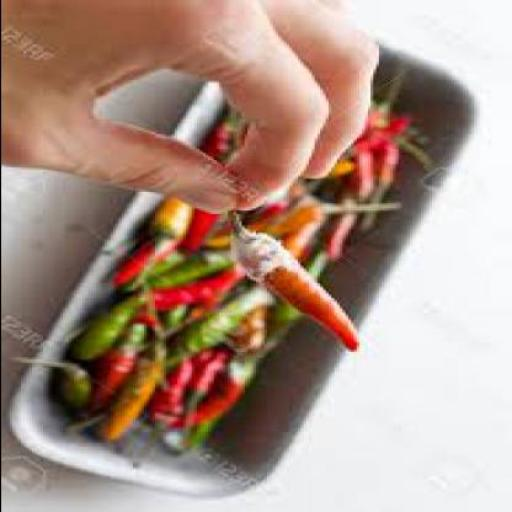biodegradable: (230, 210, 361, 354), (165, 279, 279, 363), (190, 346, 274, 452), (257, 246, 330, 350), (134, 358, 193, 470), (106, 348, 176, 441), (135, 191, 199, 285), (358, 118, 414, 224), (89, 318, 151, 409), (353, 93, 403, 205), (204, 203, 325, 246), (76, 290, 142, 361), (19, 354, 98, 413), (190, 350, 252, 423), (277, 249, 327, 328), (180, 266, 246, 320), (118, 231, 179, 285), (191, 344, 235, 415), (154, 250, 235, 284), (171, 204, 224, 254), (322, 203, 366, 259), (132, 277, 162, 354), (201, 104, 241, 158), (224, 301, 268, 350), (291, 208, 333, 257), (400, 128, 437, 172), (143, 282, 202, 309), (151, 248, 190, 278), (162, 300, 190, 333), (185, 351, 210, 385), (260, 201, 291, 221), (334, 156, 360, 178)
